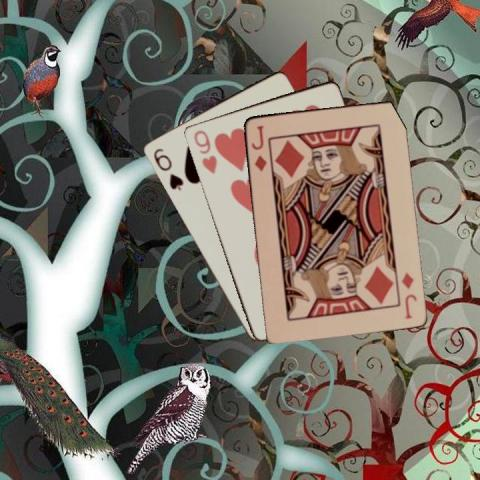6s: (150, 145, 185, 192)
9h: (190, 127, 218, 175)
Jd: (247, 122, 268, 173), (398, 269, 418, 320)
